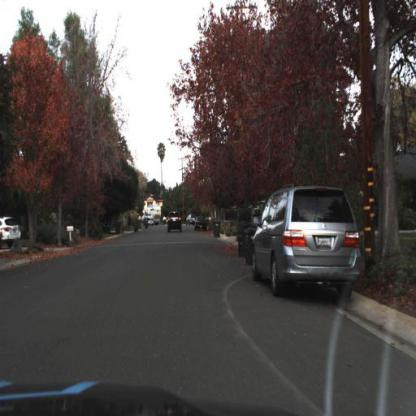car: (252, 180, 361, 300), (0, 215, 21, 246), (164, 209, 184, 233), (194, 216, 206, 232)
